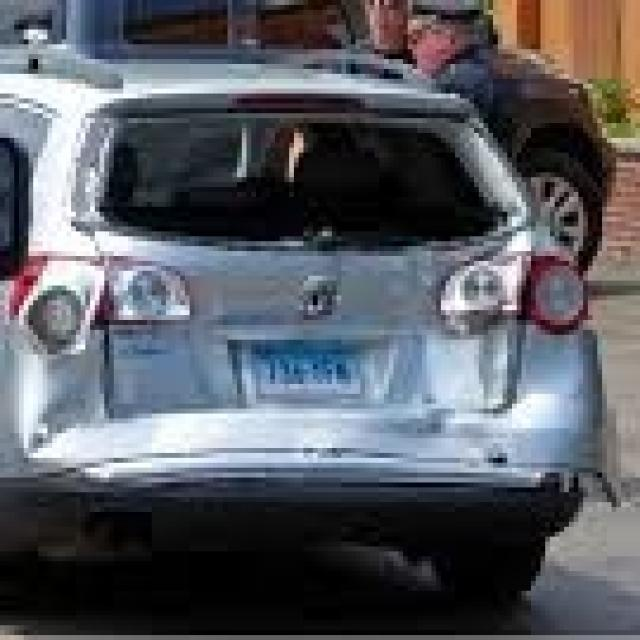moderate: (49, 84, 563, 495)
